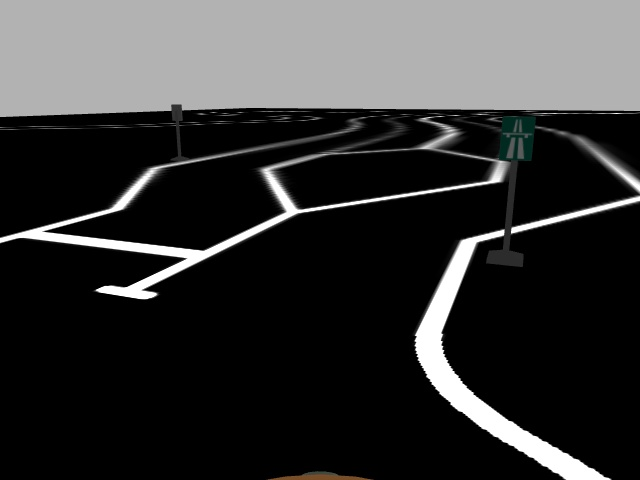enter_highway: (496, 115, 536, 161)
